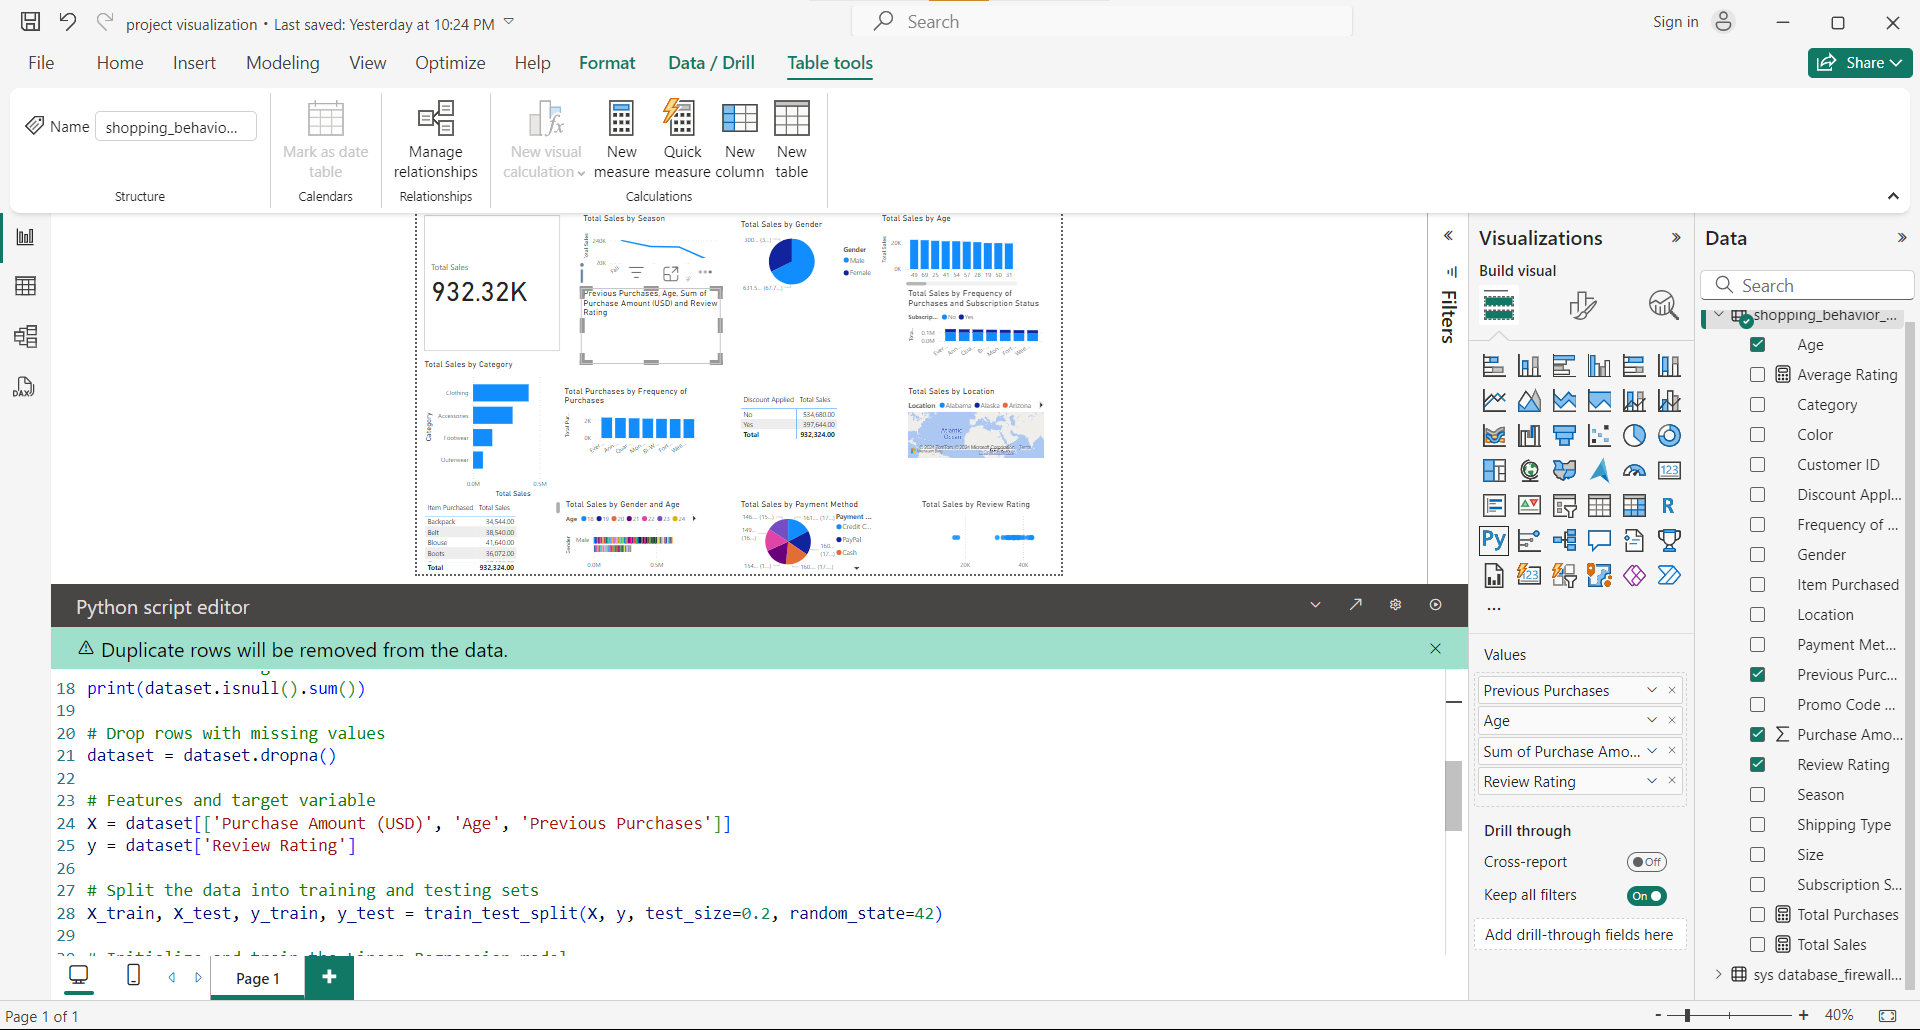

The dashboard page shown, as its layout file describes it:
{"tool":"powerbi","page":{"name":"Page 1","canvas":[1280,720],"ordinal":0},"visuals":[{"type":"cardVisual","fields":{"Data":["shopping_behavior_updated.Total Sales"]},"box":[10,0,280,280],"z":0},{"type":"barChart","fields":{"Category":["shopping_behavior_updated.Category"],"Y":["shopping_behavior_updated.Total Sales"]},"box":[10,290,280,280],"z":1000},{"type":"lineChart","fields":{"Category":["shopping_behavior_updated.Season"],"Y":["shopping_behavior_updated.Total Sales"]},"box":[325.2,0,279.8,149.7],"z":2000},{"type":"pieChart","fields":{"Category":["shopping_behavior_updated.Gender"],"Y":["shopping_behavior_updated.Total Sales"]},"box":[640.5,13.5,279.8,149.7],"z":3000},{"type":"columnChart","fields":{"Y":["shopping_behavior_updated.Total Sales"],"Category":["shopping_behavior_updated.Age"]},"box":[920.3,0,279.8,149.7],"z":4000},{"type":"columnChart","fields":{"Category":["shopping_behavior_updated.Frequency of Purchases"],"Y":["shopping_behavior_updated.Total Purchases"]},"box":[289.6,342.3,279.8,149.7],"z":5000},{"type":"pivotTable","fields":{"Rows":["shopping_behavior_updated.Discount Applied"],"Values":["shopping_behavior_updated.Total Sales"]},"box":[640.5,354.6,279.8,149.7],"z":6000},{"type":"map","fields":{"Series":["shopping_behavior_updated.Location"],"Size":["shopping_behavior_updated.Total Sales"]},"box":[971.8,342.3,279.8,149.7],"z":7000},{"type":"tableEx","fields":{"Values":["shopping_behavior_updated.Item Purchased","shopping_behavior_updated.Total Sales"]},"box":[10,570,280,150],"z":8000},{"type":"barChart","fields":{"Y":["shopping_behavior_updated.Total Sales"],"Category":["shopping_behavior_updated.Gender"],"Series":["shopping_behavior_updated.Age"]},"box":[290,570,280,150],"z":9000},{"type":"pieChart","fields":{"Y":["shopping_behavior_updated.Total Sales"],"Category":["shopping_behavior_updated.Payment Method"]},"box":[640,570,280,150],"z":10000},{"type":"scatterChart","fields":{"Category":["shopping_behavior_updated.Review Rating"],"X":["shopping_behavior_updated.Total Sales"]},"box":[1000,570.6,279.8,149.7],"z":11000},{"type":"columnChart","fields":{"Category":["shopping_behavior_updated.Frequency of Purchases"],"Series":["shopping_behavior_updated.Subscription Status"],"Y":["shopping_behavior_updated.Total Sales"]},"box":[971.8,149.7,279.8,149.7],"z":12000}]}

Visuals, with their boxes on the page's 1280x720 design canvas (x1, y1, x2, y2). These are canvas units, not pixel positions in the 1920x1030 screenshot, which may show the page scaled, cropped or inside an application window:
cardVisual - shopping_behavior_updated.Total Sales: Rect(10, 0, 290, 280)
barChart - shopping_behavior_updated.Category x shopping_behavior_updated.Total Sales: Rect(10, 290, 290, 570)
lineChart - shopping_behavior_updated.Season x shopping_behavior_updated.Total Sales: Rect(325, 0, 605, 150)
pieChart - shopping_behavior_updated.Gender x shopping_behavior_updated.Total Sales: Rect(640, 14, 920, 163)
columnChart - shopping_behavior_updated.Total Sales x shopping_behavior_updated.Age: Rect(920, 0, 1200, 150)
columnChart - shopping_behavior_updated.Frequency of Purchases x shopping_behavior_updated.Total Purchases: Rect(290, 342, 569, 492)
pivotTable - shopping_behavior_updated.Discount Applied x shopping_behavior_updated.Total Sales: Rect(640, 355, 920, 504)
map - shopping_behavior_updated.Location x shopping_behavior_updated.Total Sales: Rect(972, 342, 1252, 492)
tableEx - shopping_behavior_updated.Item Purchased x shopping_behavior_updated.Total Sales: Rect(10, 570, 290, 720)
barChart - shopping_behavior_updated.Total Sales x shopping_behavior_updated.Gender: Rect(290, 570, 570, 720)
pieChart - shopping_behavior_updated.Total Sales x shopping_behavior_updated.Payment Method: Rect(640, 570, 920, 720)
scatterChart - shopping_behavior_updated.Review Rating x shopping_behavior_updated.Total Sales: Rect(1000, 571, 1280, 720)
columnChart - shopping_behavior_updated.Frequency of Purchases x shopping_behavior_updated.Subscription Status: Rect(972, 150, 1252, 299)
